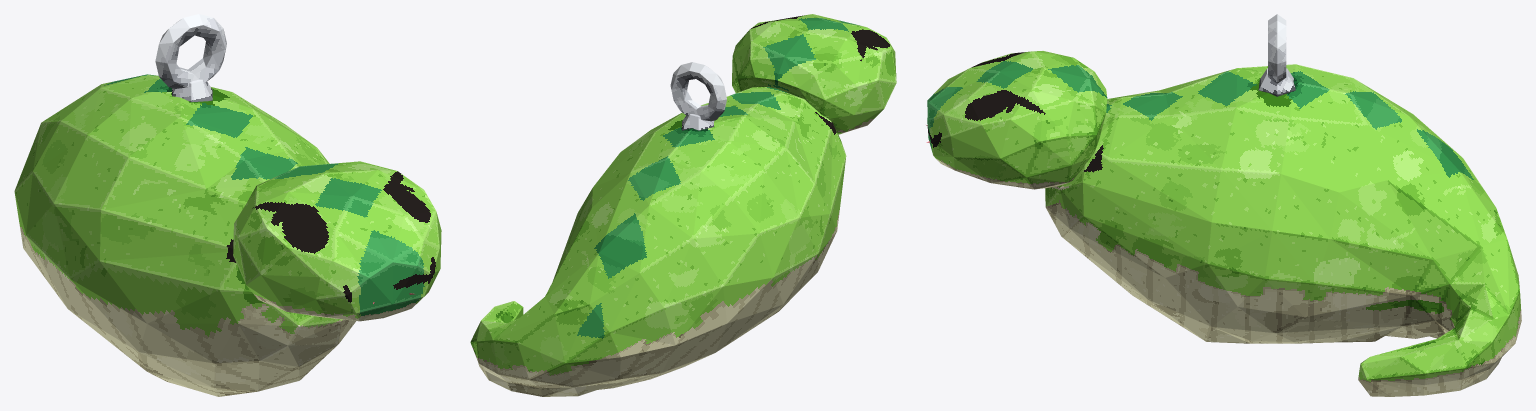
File: tsuchinoko.glb
3 views of the same model, side by side, from view 1: azimuth 30°, elevation 25°; view 2: azimuth 150°, elevation 25°; view 3: azimuth 270°, elevation 25° (orthographic). The views are drawn at different scales.
Parts seen in each view (by area): view 1: body, pin; view 2: body, pin; view 3: body, pin.
Part boxes in pixels (x1,y1,x2,y2): body: (14,74,441,396); pin: (155,14,226,102); body: (470,14,896,396); pin: (670,62,726,130); body: (927,51,1521,396); pin: (1258,14,1295,96).
Bounding box in the file's own units: 14.23 × 14.36 × 25.83.
1 material, 1 textured.
